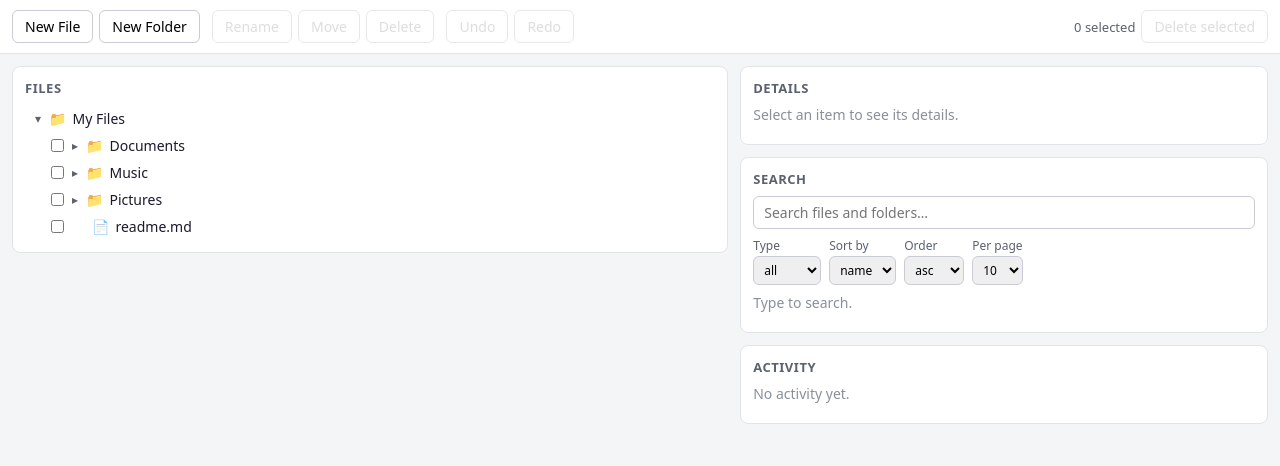
Scenario: search › displays each result's name, type, and location (nested)
This screenshot has width=1280, height=466.
Type "resume" into the search field with test id "search-input" at (1004,212), box [753,196,1255,229]
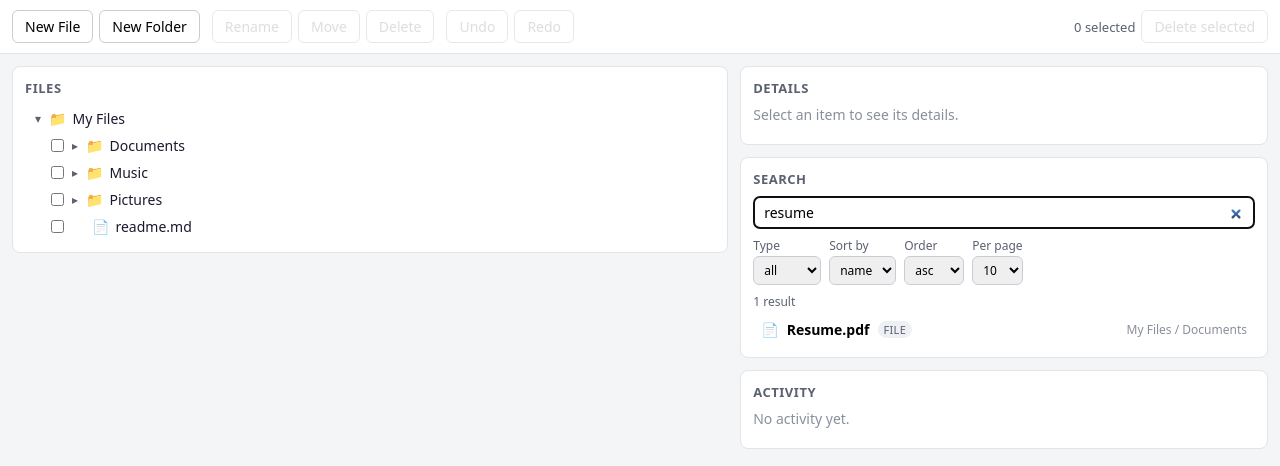
Expected: the text "Resume.pdf" is shown, [787,320,870,339]
Expected: the text "My Files / Documents" is shown, [1126,321,1247,338]
